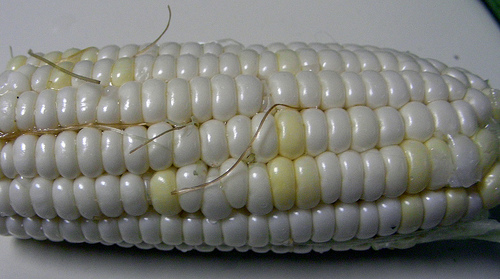corn: (1, 39, 498, 251)
